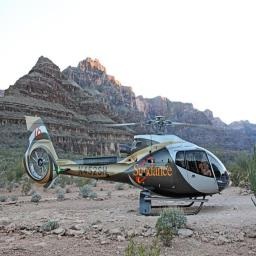helicopter: (21, 110, 236, 218)
